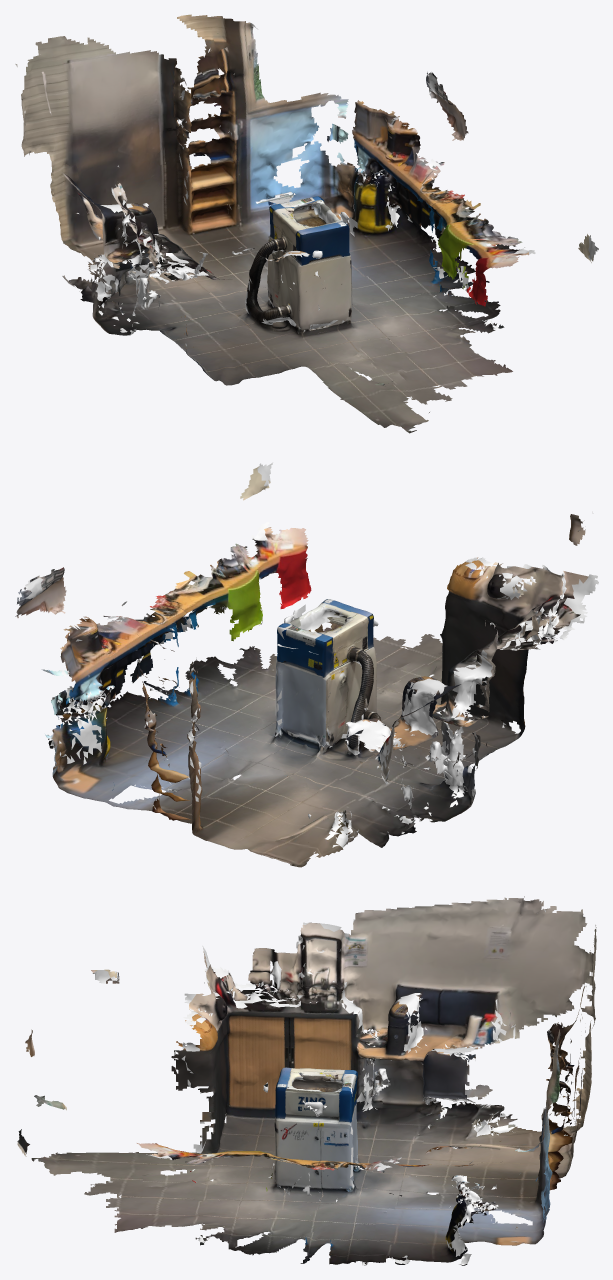
3 renders of one model, top to bottom at view 1: azimuth 30°, elevation 25°; view 2: azimuth 150°, elevation 25°; view 3: azimuth 270°, elevation 25°, orthographic. The views are drawn at different scales.
Visible parts, largest first — view 1: texture_2, texture_0, texture_1, texture_3, object 1; view 2: texture_0, texture_2, texture_1, texture_3, object 1; view 3: texture_2, texture_0, texture_3, texture_1, object 1.
Part boxes in pixels (bbox=[...]): texture_2: bbox=[15, 14, 476, 385]; texture_0: bbox=[22, 25, 592, 433]; texture_1: bbox=[49, 30, 512, 387]; texture_3: bbox=[59, 140, 519, 334]; object 1: bbox=[50, 23, 598, 431]; texture_0: bbox=[16, 466, 588, 849]; texture_2: bbox=[17, 575, 580, 866]; texture_1: bbox=[15, 558, 538, 867]; texture_3: bbox=[53, 514, 585, 847]; object 1: bbox=[18, 462, 598, 863]; texture_2: bbox=[171, 896, 596, 1265]; texture_0: bbox=[17, 940, 591, 1265]; texture_3: bbox=[25, 922, 560, 1245]; texture_1: bbox=[114, 900, 591, 1261]; object 1: bbox=[27, 900, 596, 1265].
Bounding box in the file's own units: 4.18 × 2.12 × 5.35.
Materials: 5 (4 with a texture image).
